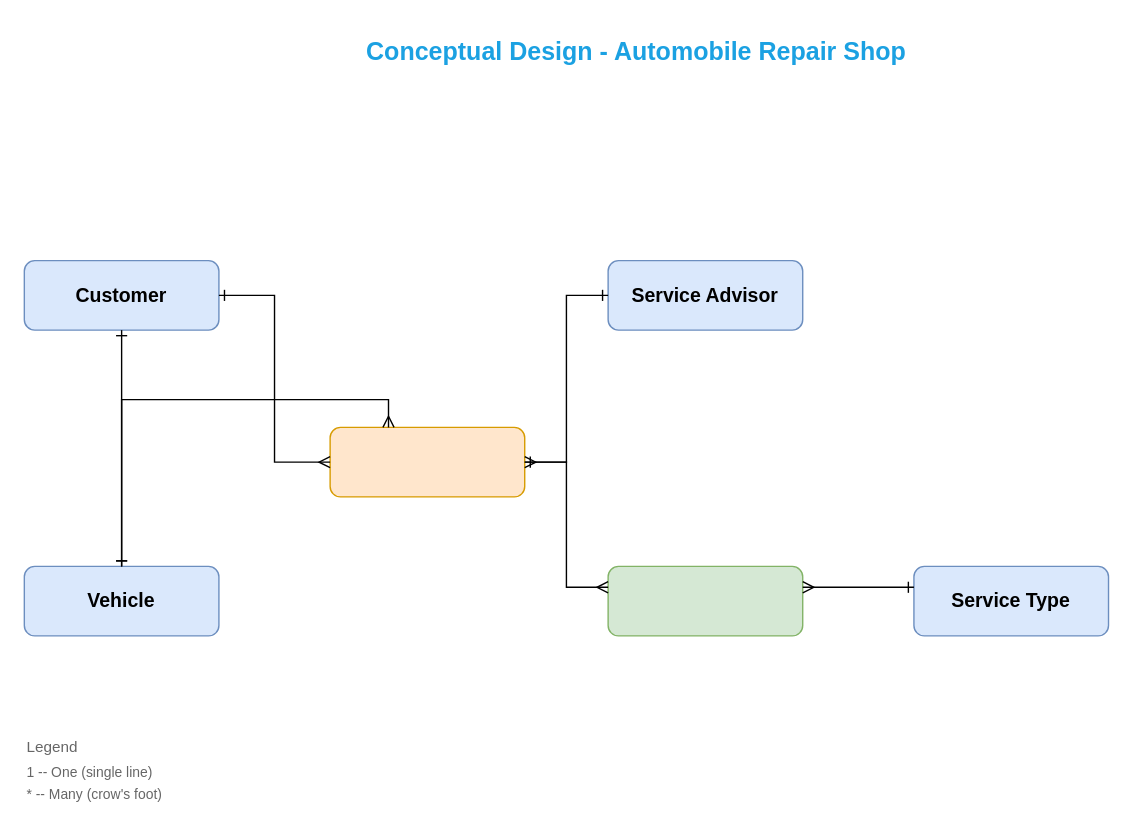
The diagram is 1133 pixels wide and 828 high, and some of its shapes have lost their labels. The shapes that lost their labels are listed below. From the top down, each one's centre as x and y in pixels, then its label:
the point at 427,461: Repair Order
the point at 705,600: Line Item
